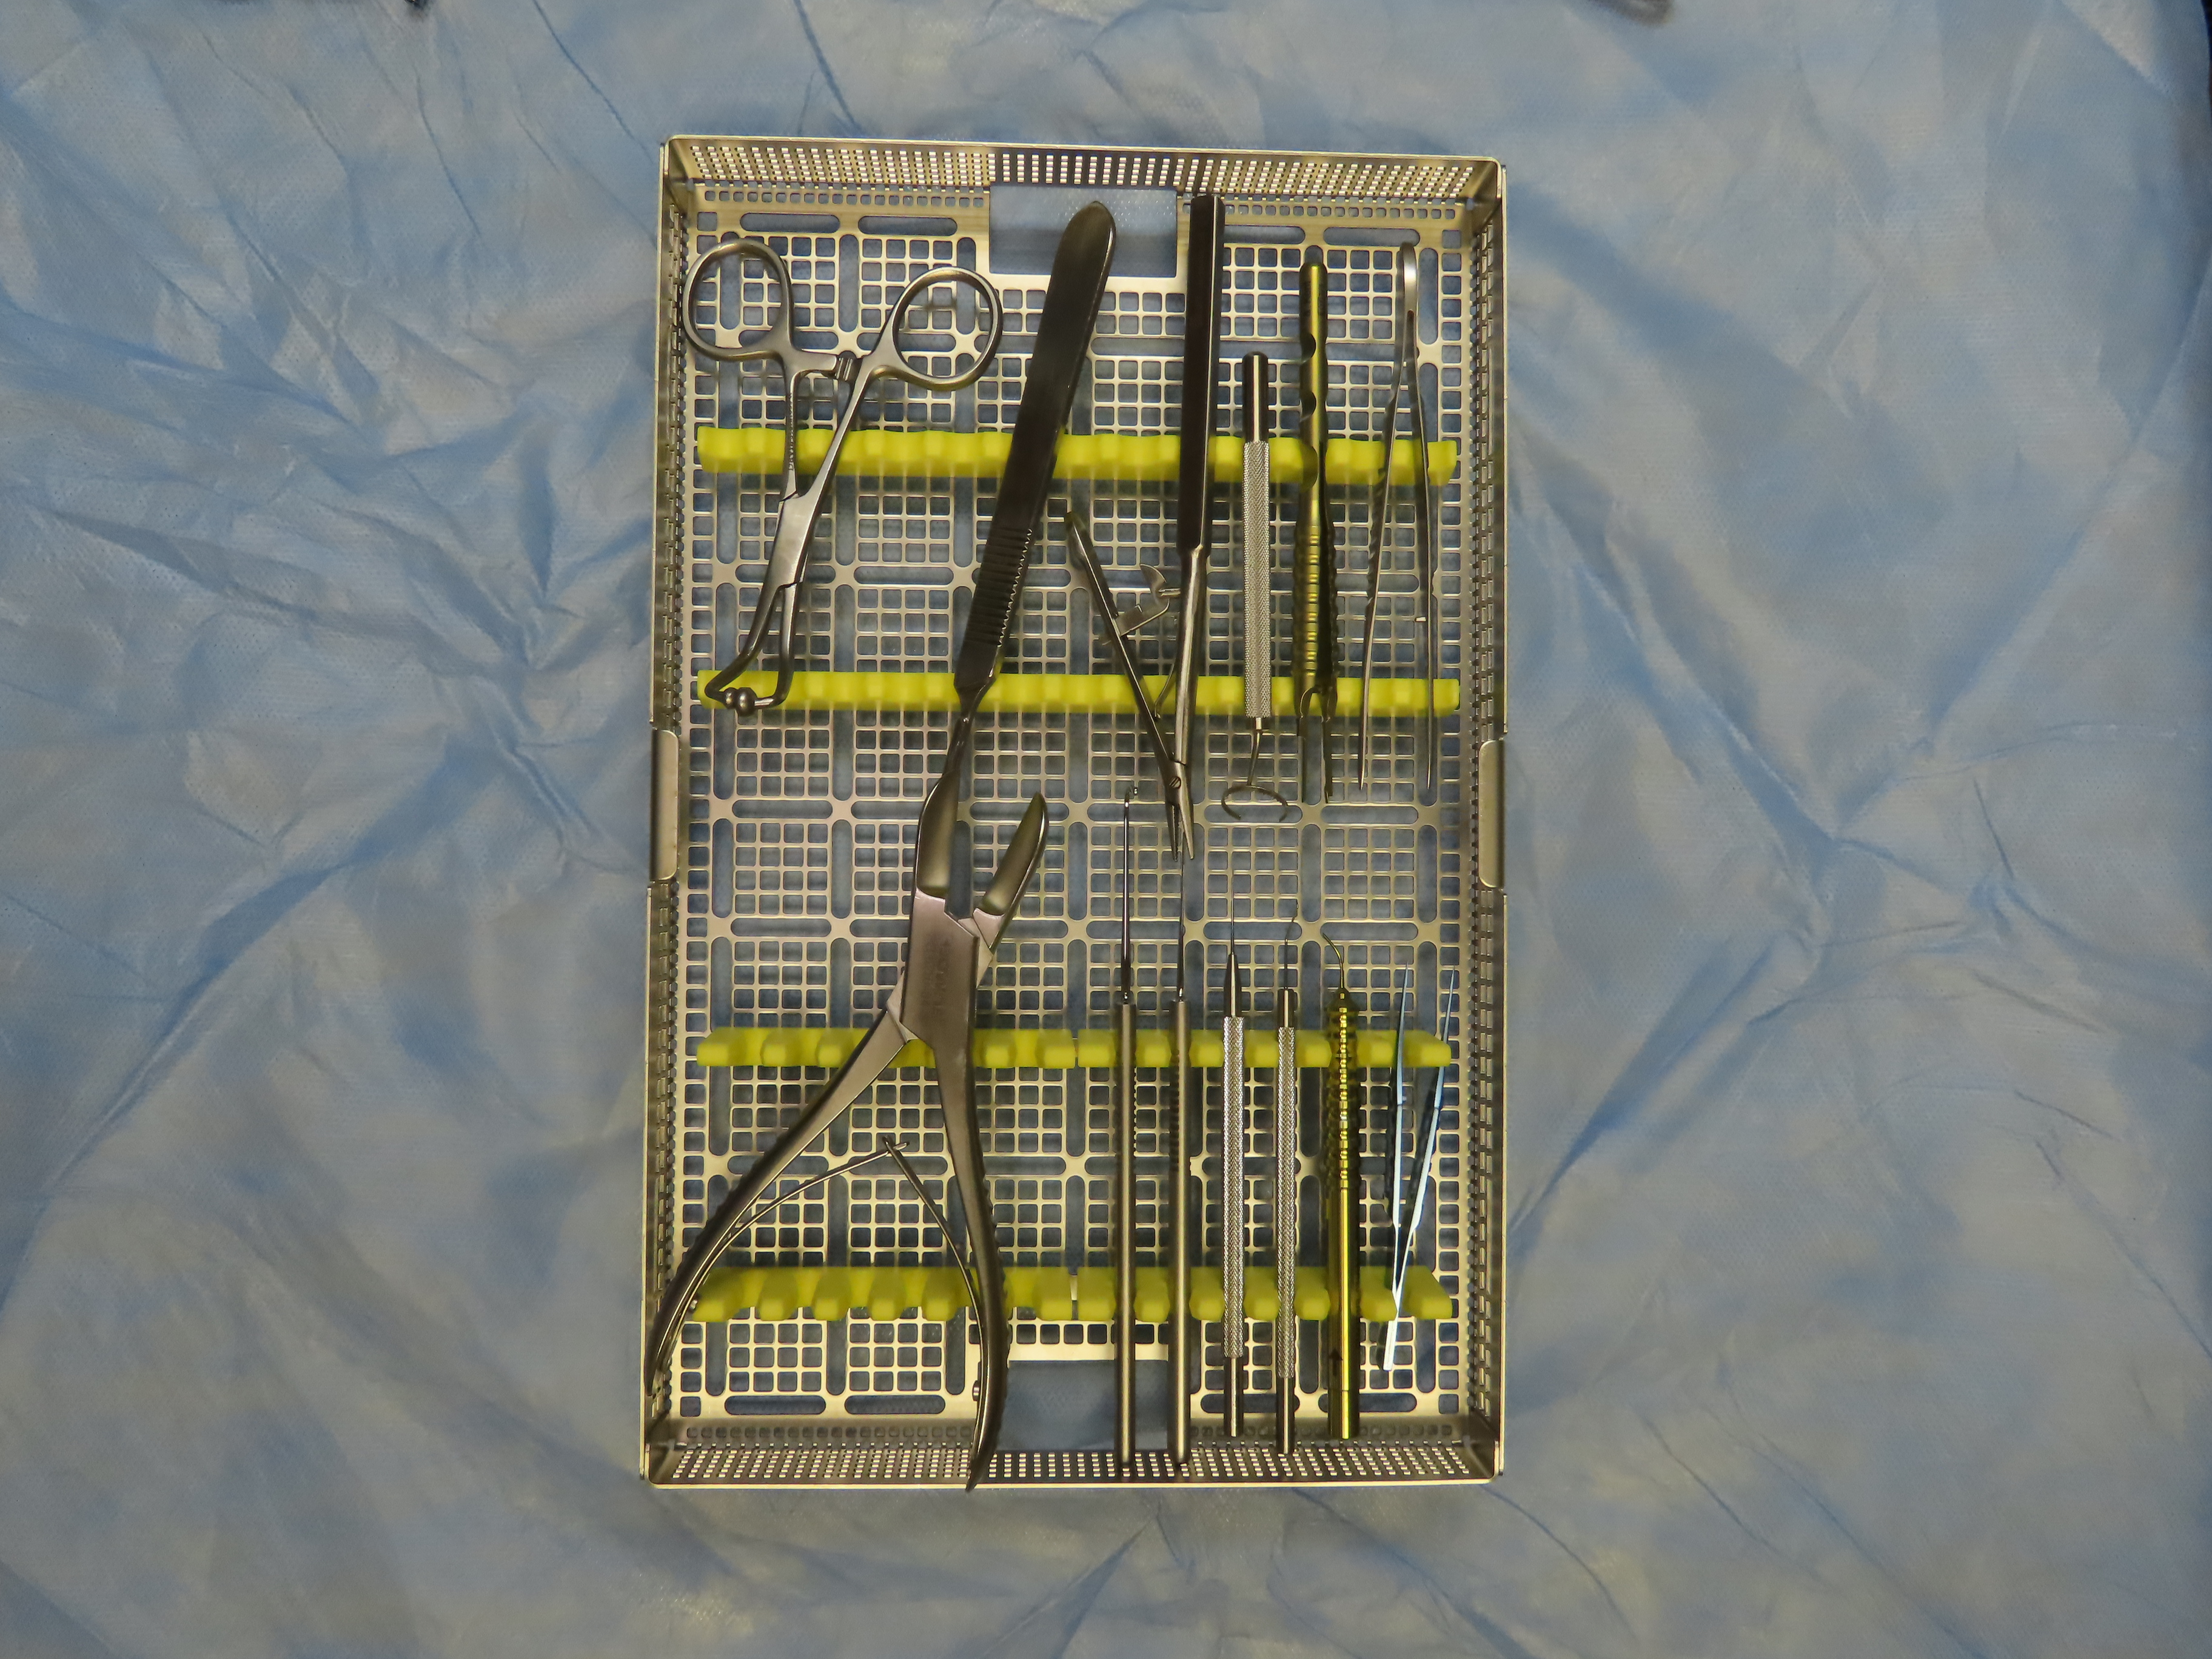Chopper: (1261, 897, 1308, 1457)
Dressing Forceps: (1353, 235, 1458, 796)
Fixation Ring: (1219, 343, 1292, 821)
Handpiece: (1312, 925, 1366, 1448)
Hook Surgical: (1104, 777, 1146, 1473), (1214, 880, 1261, 1441)
Needle Holder: (1062, 185, 1207, 870)
Spatula Surgical: (1160, 840, 1205, 1462)
Tissue Forceps: (1280, 256, 1348, 810), (1374, 953, 1444, 1384)
